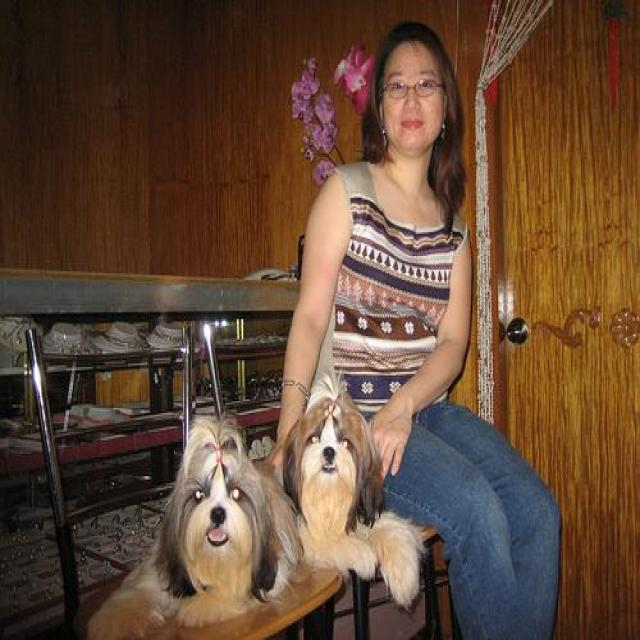shih_tzu: (115, 406, 304, 630), (279, 374, 424, 609)
